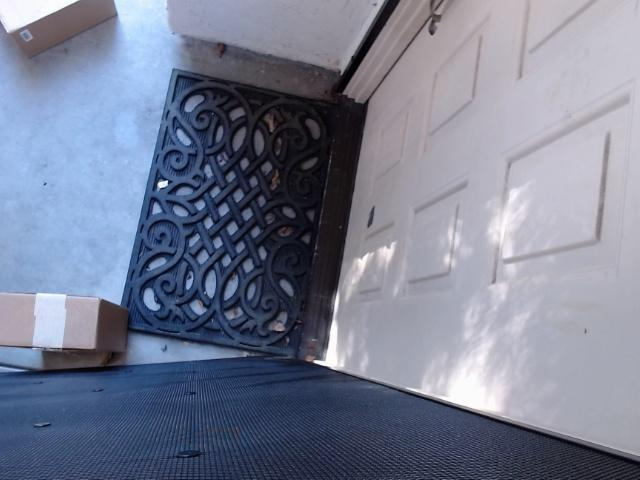box: (0, 261, 126, 408), (2, 0, 146, 69)
